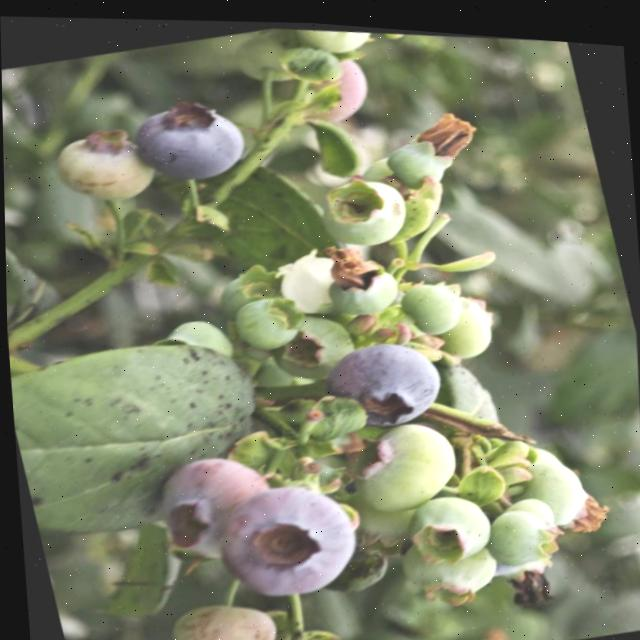RipeBlueBerry: (204, 458, 373, 614), (319, 315, 457, 439), (127, 82, 254, 196)
Semi-RipeBlueBerry: (144, 435, 285, 573)
UnripeBlueBerry: (335, 398, 476, 523), (43, 113, 161, 217), (162, 582, 284, 640)
